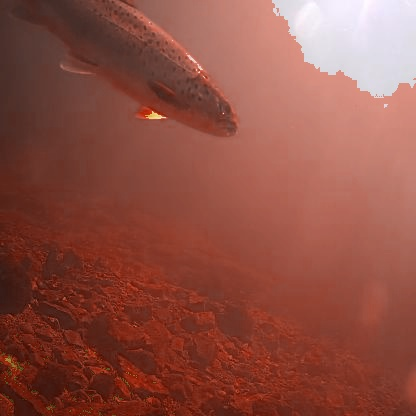salmon: (6, 0, 242, 140)
